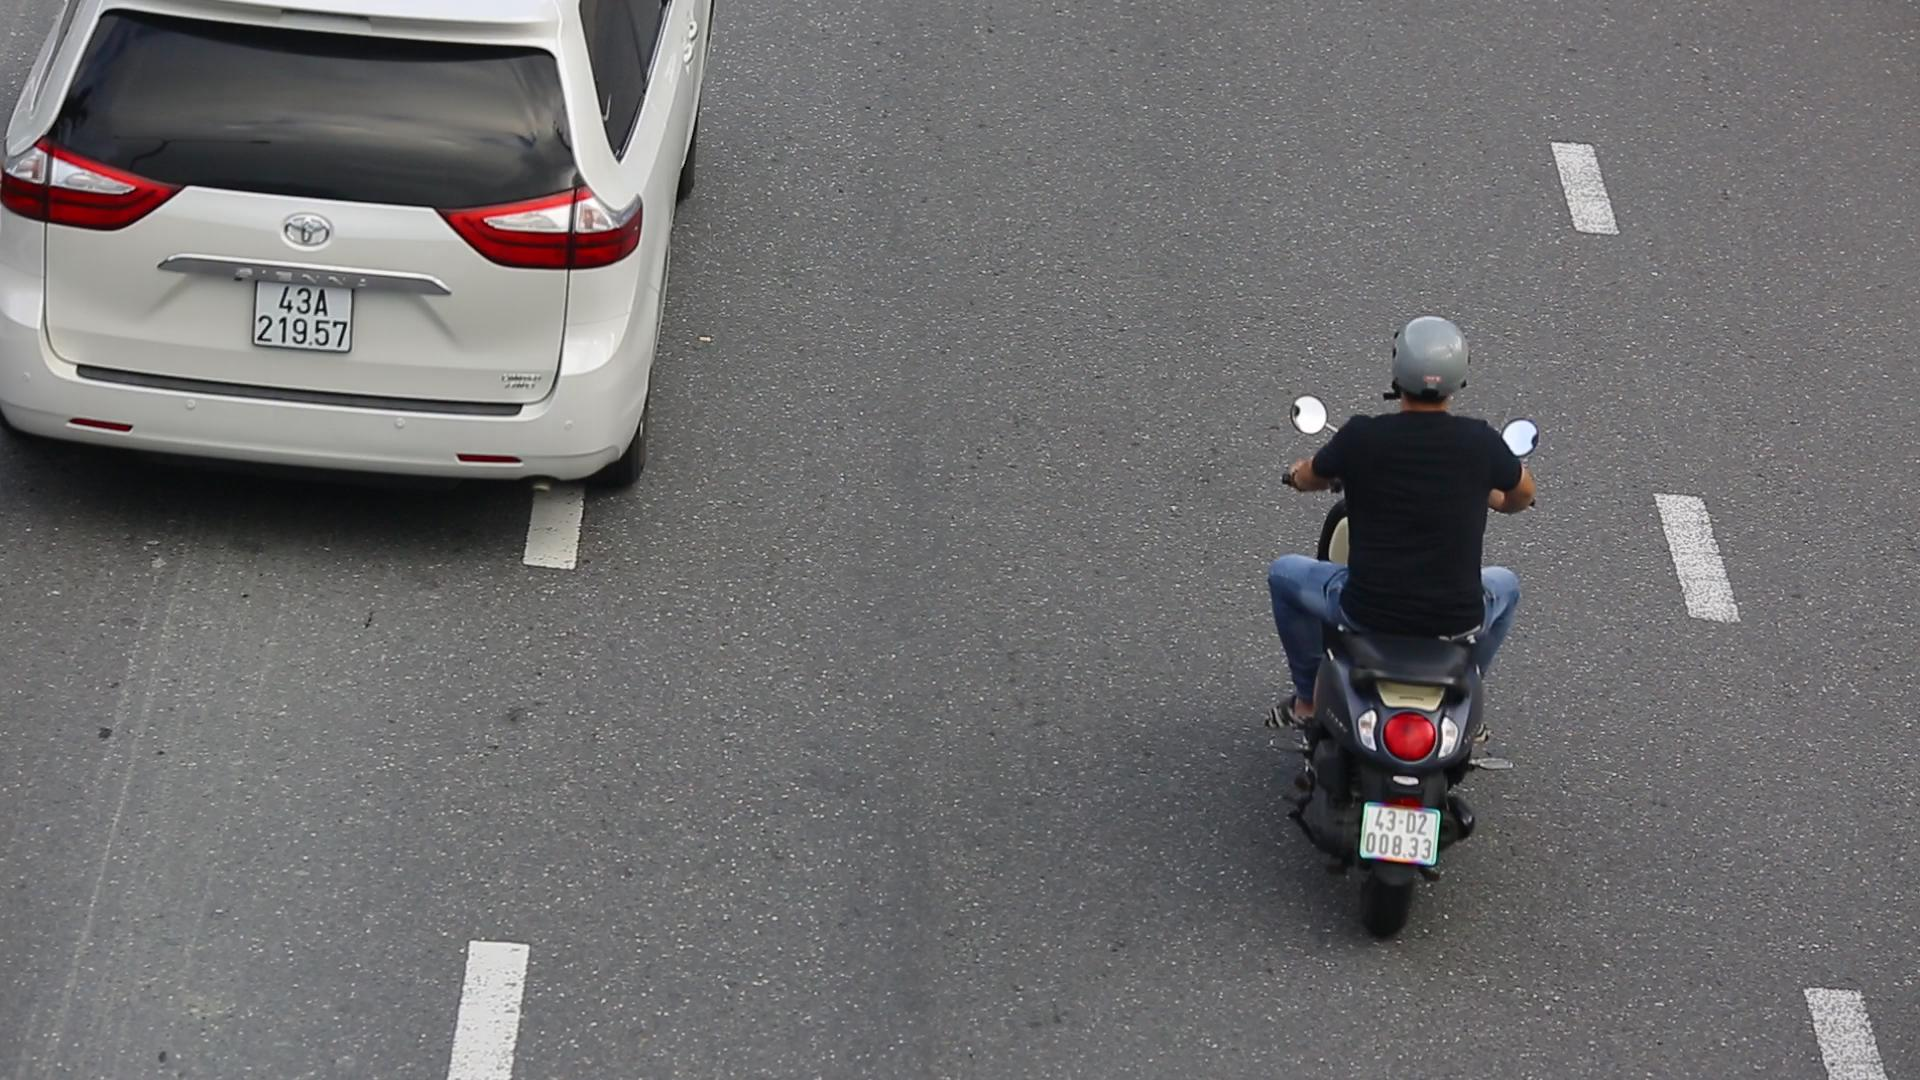motobike: (1265, 310, 1539, 944)
